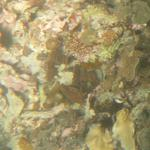alive: (5, 3, 142, 147)
